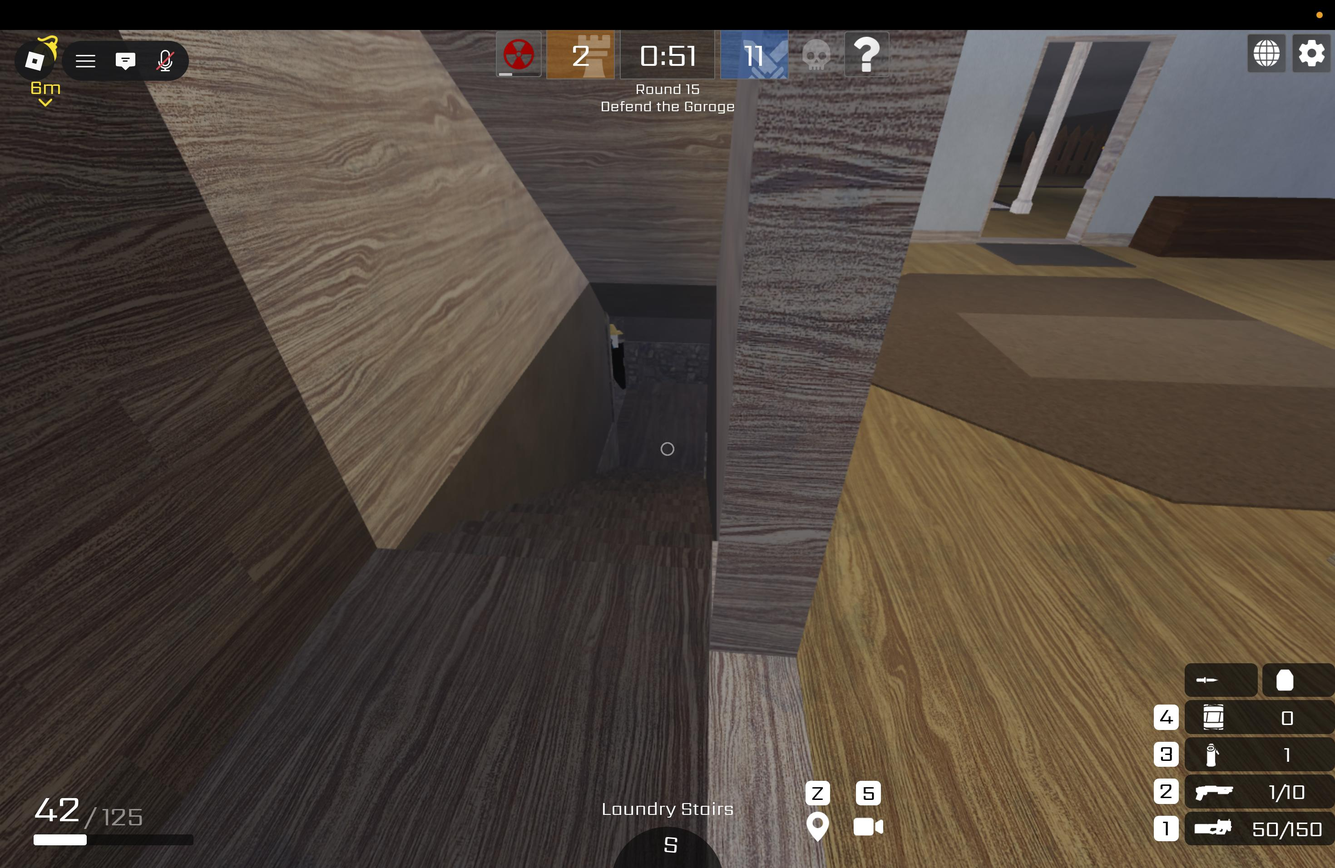enemy: (602, 325, 627, 391)
